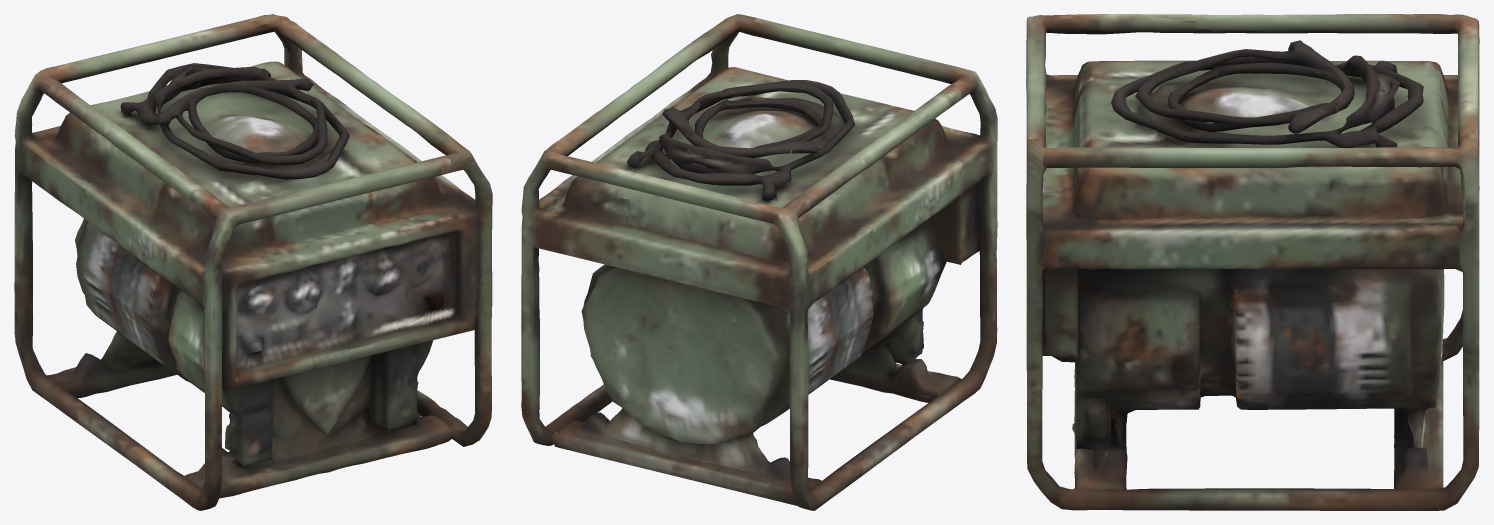
Rendered from generator_source.glb.
3 renders of one model, left to right at view 1: azimuth 30°, elevation 25°; view 2: azimuth 150°, elevation 25°; view 3: azimuth 270°, elevation 25°, orthographic. The views are drawn at different scales.
Visible parts, largest first — view 1: model; view 2: model; view 3: model.
Part boxes in pixels (x1,y1,x2,y2): model: (14, 14, 492, 510); model: (521, 14, 997, 510); model: (1026, 14, 1479, 510).
Bounding box in the file's own units: 1.4 × 1.46 × 1.7.
Materials: 1 (1 with a texture image).
